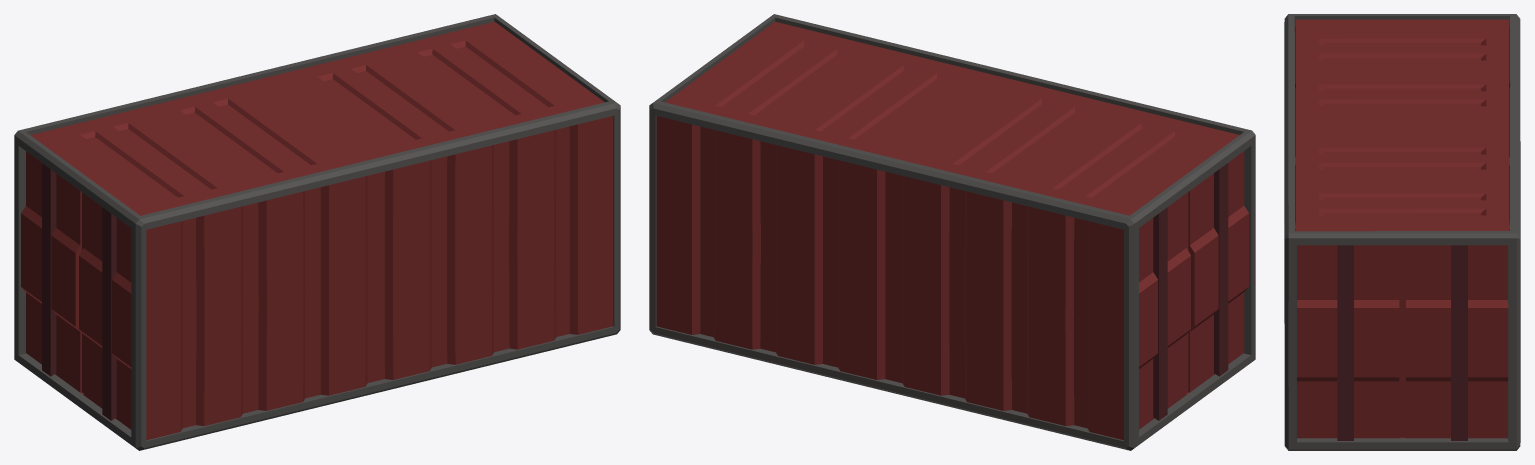
The model's file is container-red.glb.
3 views of the same model, side by side, from view 1: azimuth 30°, elevation 25°; view 2: azimuth 150°, elevation 25°; view 3: azimuth 270°, elevation 25° (orthographic). The views are drawn at different scales.
Visible parts, largest first — view 1: Container_Red; view 2: Container_Red; view 3: Container_Red.
Part boxes in pixels (<box>): Container_Red: <box>14,14,620,450</box>; Container_Red: <box>649,14,1255,450</box>; Container_Red: <box>1284,14,1520,450</box>.
Size of the model in its own units: 5.71 by 2.6 by 2.56.
